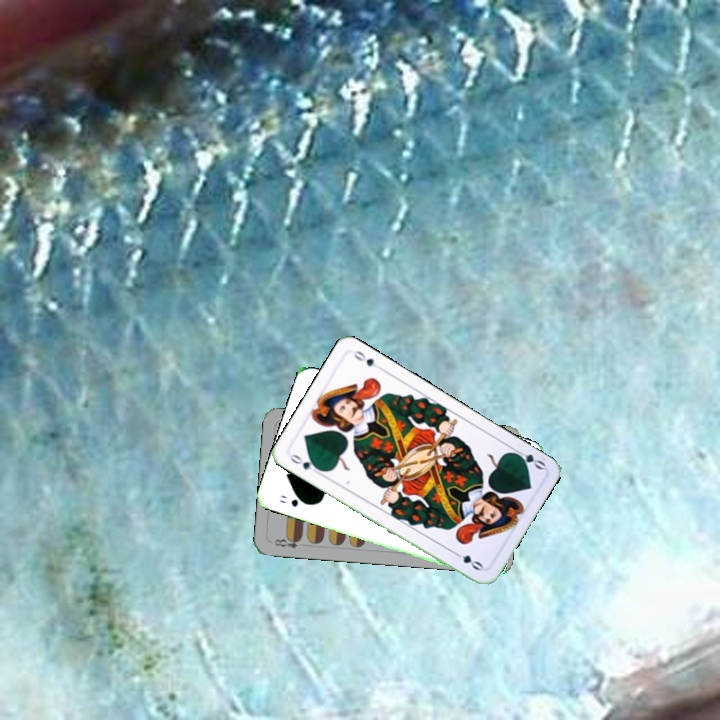E8: (270, 533, 304, 551)
GO: (508, 444, 548, 472), (286, 450, 324, 477), (275, 491, 312, 510)
